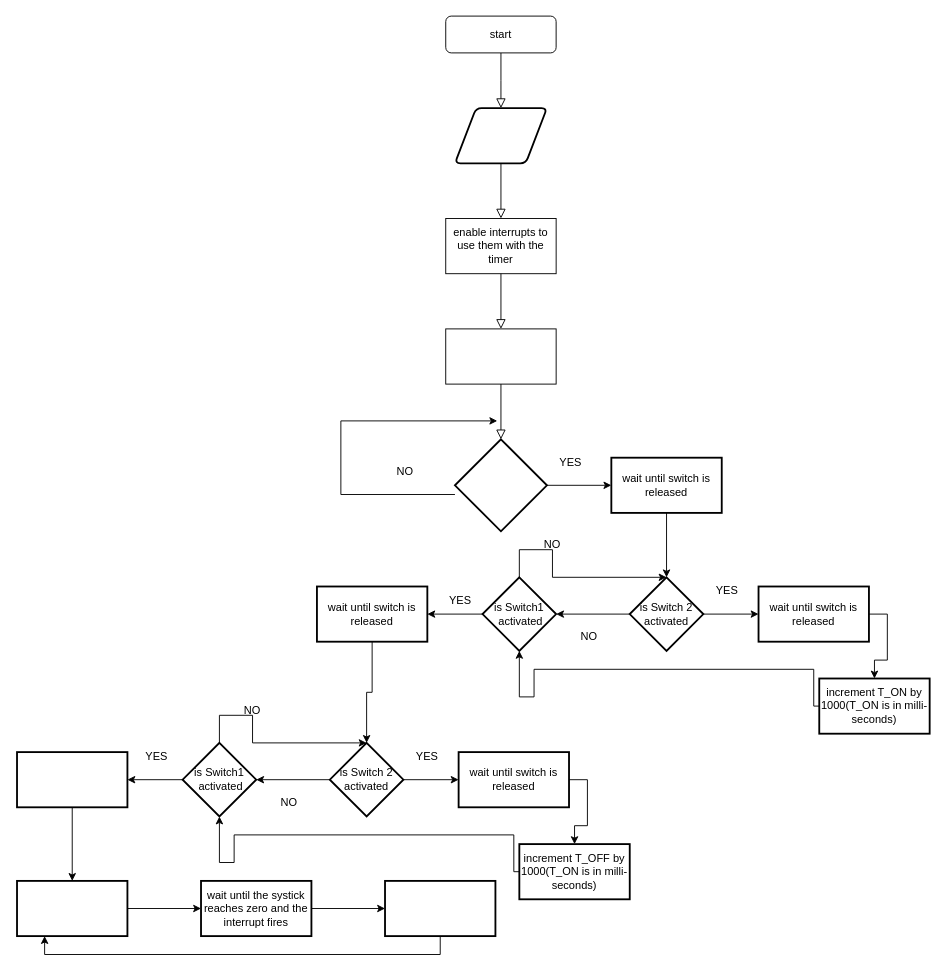
This 946x978 diagram has some shape labels left out. The shapes that lost their labels are listed below. From the top down, each one's centre as x and y in pixels, then its label:
pixel 500 135: T_ON T_OFF
pixel 500 356: initiate LED pins and Switch pins
pixel 500 485: is Switch 1 activated
pixel 72 779: wait until the switch is released
pixel 72 908: turn the LED ON activate the systick with T_ON
pixel 440 908: turn LED_OFF activate the systick with T_OFF
